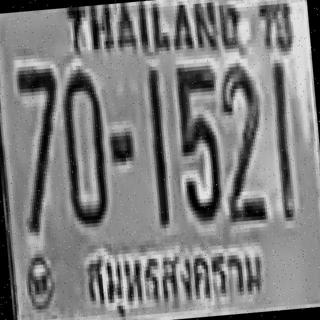N00: (60, 64, 109, 225)
N01: (268, 60, 296, 220), (144, 68, 170, 227)
N02: (216, 63, 268, 220)
N05: (172, 61, 225, 219)
N07: (14, 62, 66, 230)
P59: (84, 227, 272, 320)
